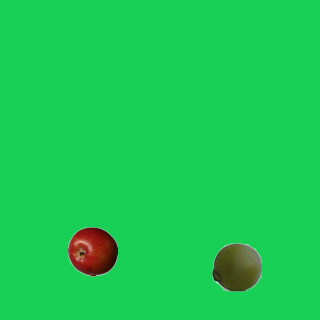Apple Braeburn: (67, 226, 117, 276)
Grape White 4: (211, 241, 261, 291)
